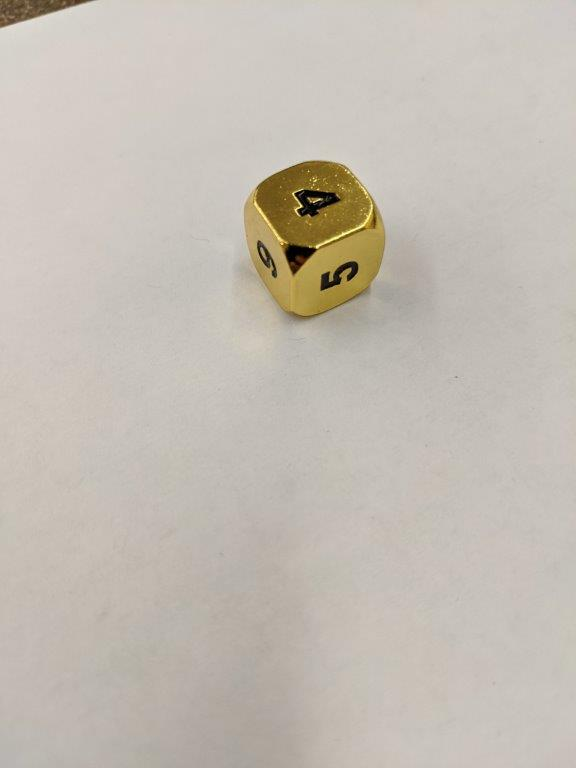d6-4: (244, 156, 387, 320)
